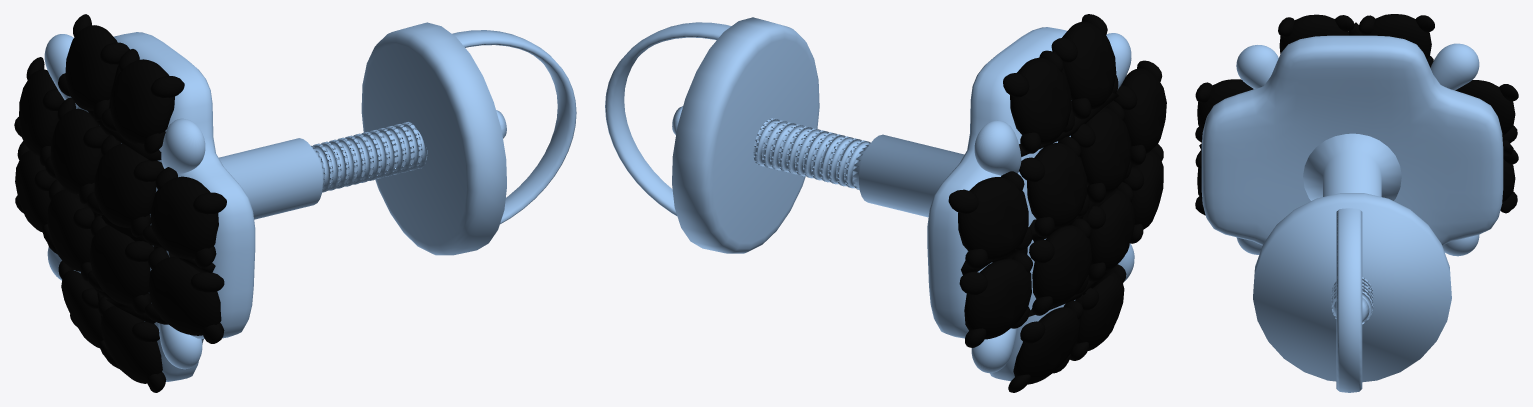
File: Earing_02_updated.glb
The picture shows the model from 3 angles, left to right: view 1: azimuth 30°, elevation 25°; view 2: azimuth 150°, elevation 25°; view 3: azimuth 270°, elevation 25°; orthographic projection. The views are drawn at different scales.
Parts seen in each view (by area): view 1: Diamonds.001, end_holder, connectror_rod, Backplate.001, GOLD_PARTS, GOLD_PARTS.002, GOLD_PARTS.000; view 2: Diamonds.001, end_holder, connectror_rod, Backplate.001, GOLD_PARTS.000, GOLD_PARTS.001, GOLD_PARTS; view 3: Backplate.001, end_holder, Diamonds.001, connectror_rod, GOLD_PARTS.000, GOLD_PARTS, GOLD_PARTS.001.
Boxes of the visible parts, <box> form: Diamonds.001: <box>14,14,226,392</box>; end_holder: <box>361,22,576,255</box>; connectror_rod: <box>219,110,506,219</box>; Backplate.001: <box>74,32,255,381</box>; GOLD_PARTS: <box>161,118,205,173</box>; GOLD_PARTS.002: <box>158,323,202,369</box>; GOLD_PARTS.000: <box>44,34,78,108</box>; Diamonds.001: <box>948,14,1166,392</box>; end_holder: <box>605,17,819,253</box>; connectror_rod: <box>672,106,964,217</box>; Backplate.001: <box>927,27,1075,381</box>; GOLD_PARTS.000: <box>974,120,1021,175</box>; GOLD_PARTS.001: <box>971,328,1016,373</box>; GOLD_PARTS: <box>1106,33,1131,89</box>; Backplate.001: <box>1201,35,1503,245</box>; end_holder: <box>1253,193,1451,392</box>; Diamonds.001: <box>1195,14,1518,215</box>; connectror_rod: <box>1303,133,1401,324</box>; GOLD_PARTS.000: <box>1430,43,1479,90</box>; GOLD_PARTS: <box>1236,45,1278,88</box>; GOLD_PARTS.001: <box>1442,234,1479,256</box>.
Bounding box in the file's own units: 75.8 × 47.45 × 50.87.
